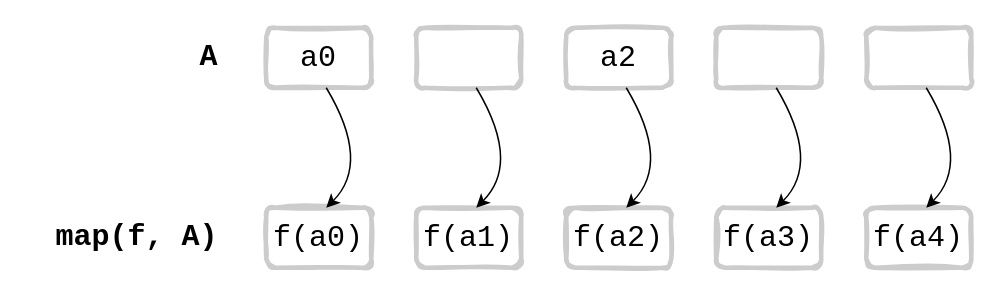
The diagram is 999 pixels wide and 296 high, and some of its shapes have lost their labels. The box of each missing label's shape, as (x1, y1, x2, y2) in pixels:
a1: (413, 25, 523, 89)
a3: (713, 25, 823, 89)
a4: (863, 25, 973, 89)
